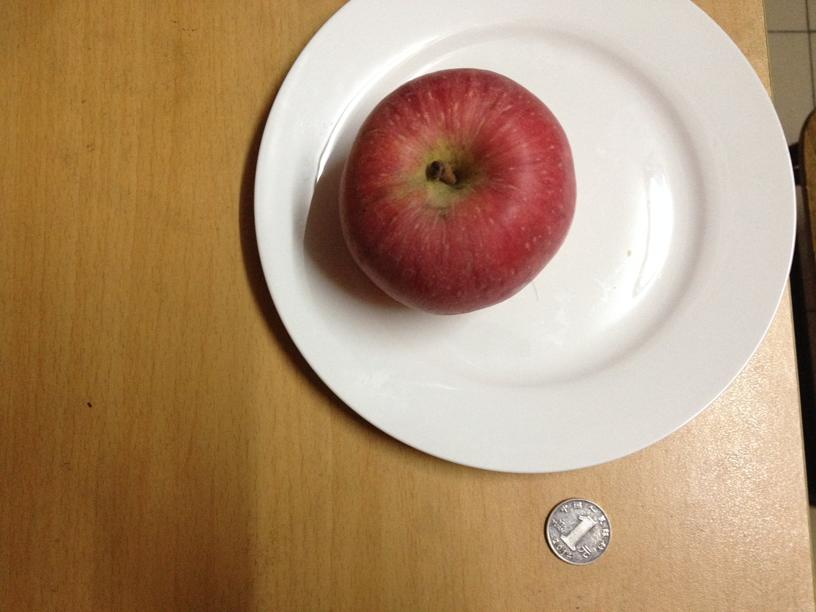apple: (336, 64, 578, 316)
coin: (545, 497, 610, 566)
